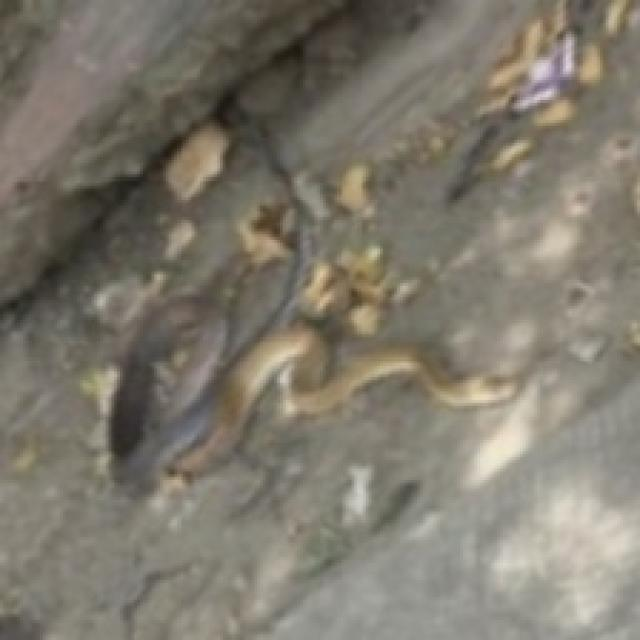reddish rat snake: (166, 246, 520, 477), (111, 297, 226, 454), (111, 297, 223, 454)
